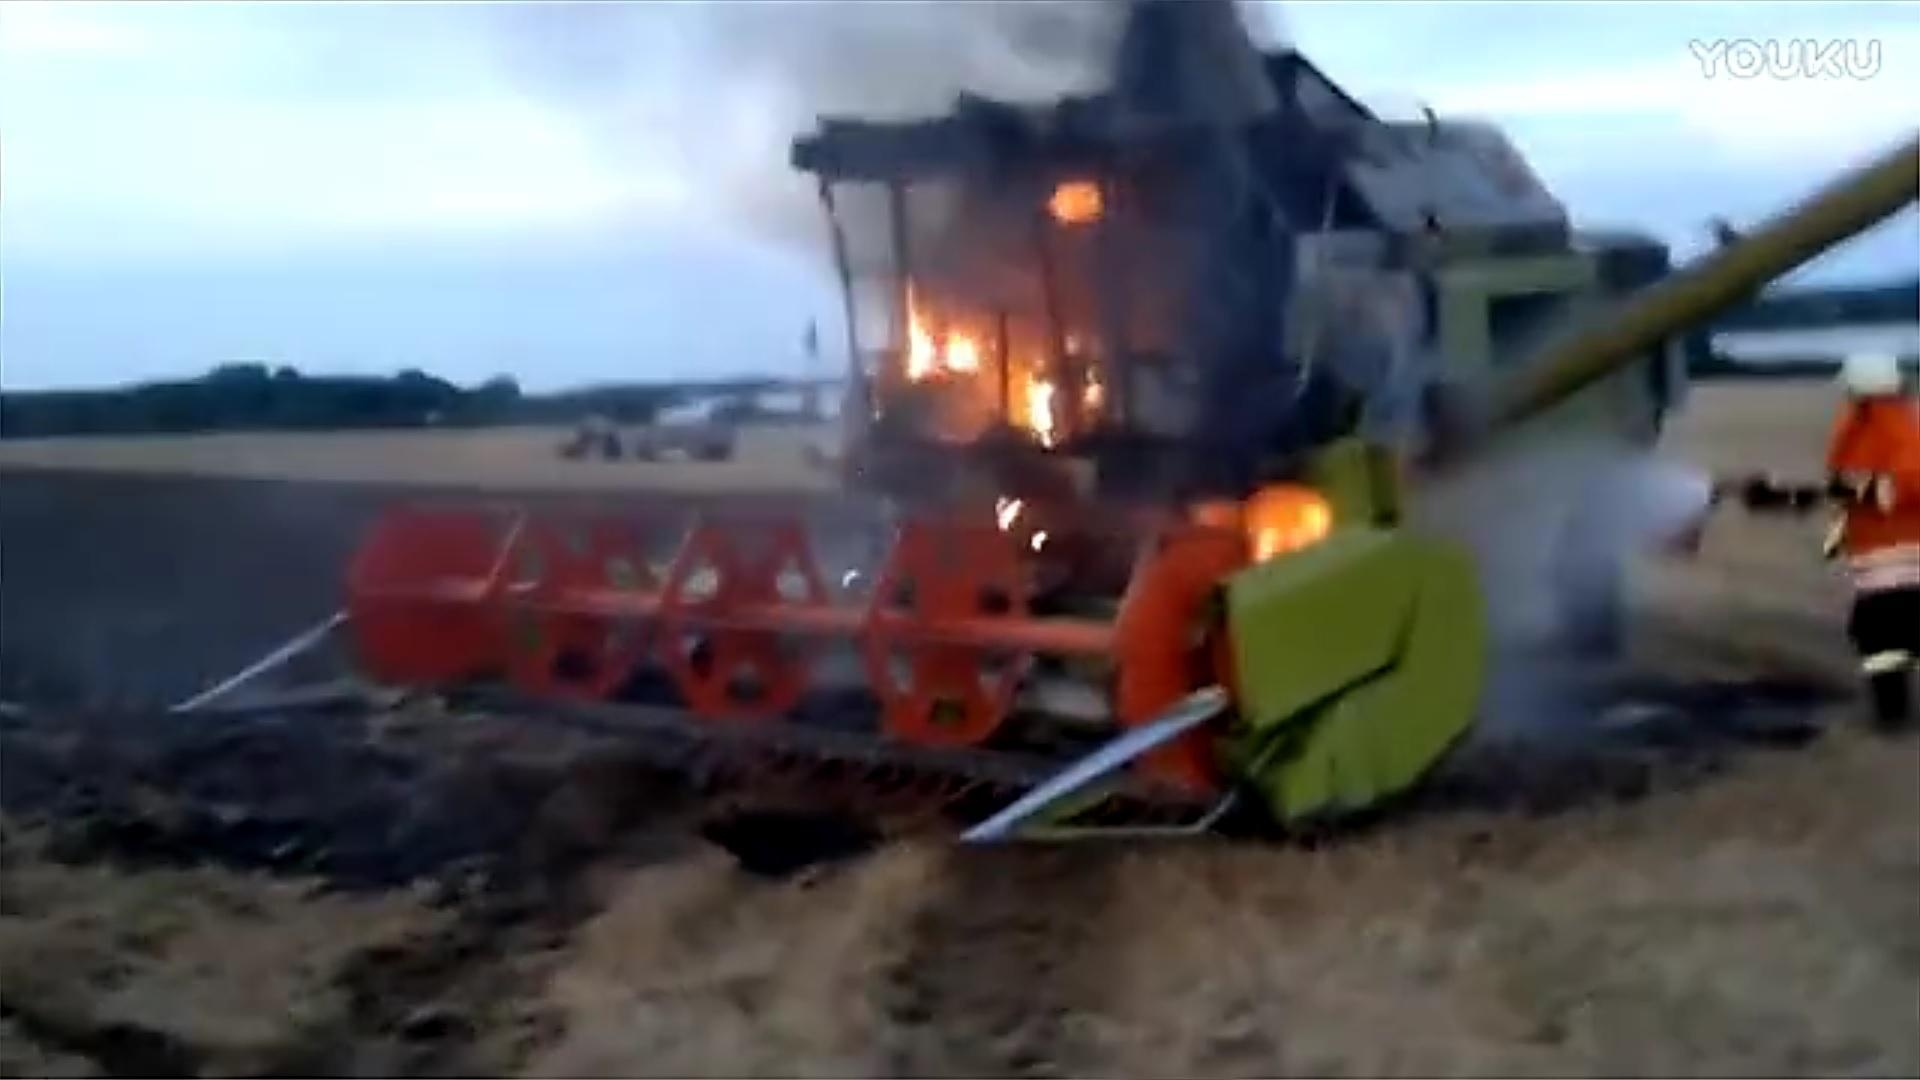fire: (903, 297, 1073, 440), (1242, 480, 1335, 553)
